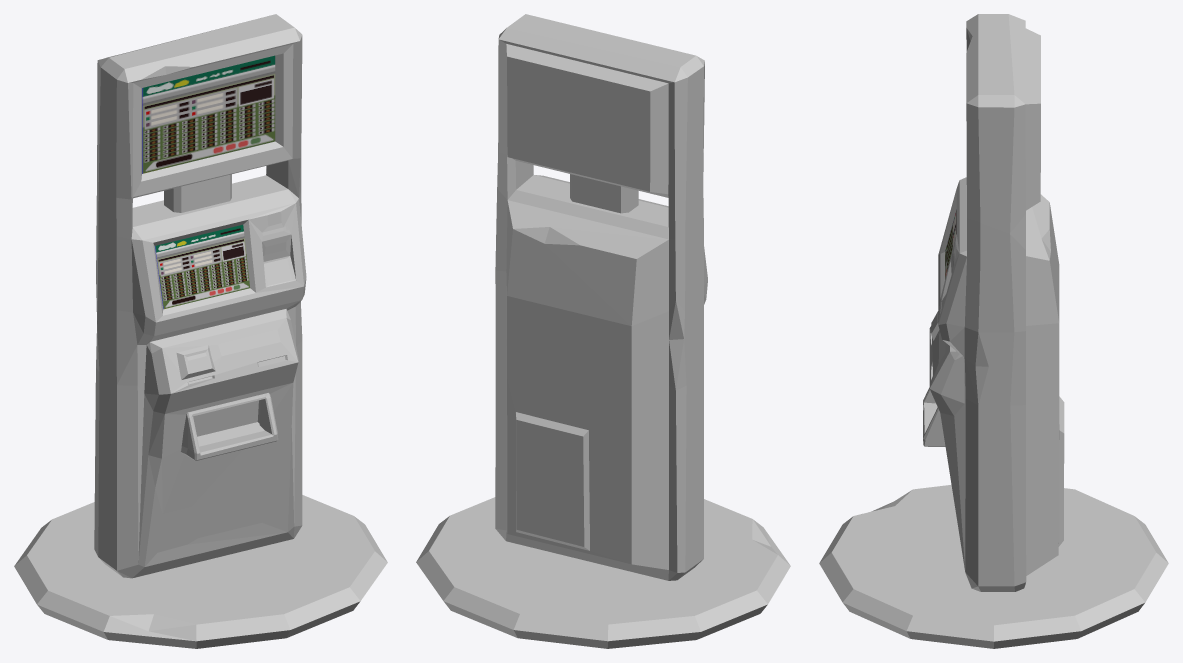
File: SM_Prop_Chip_Dispenser_01.fbx
3 views of the same model, side by side, from view 1: azimuth 30°, elevation 25°; view 2: azimuth 150°, elevation 25°; view 3: azimuth 270°, elevation 25° (orthographic). The views are drawn at different scales.
Parts seen in each view (by area): view 1: SM_Prop_Chip_Dispenser_01; view 2: SM_Prop_Chip_Dispenser_01; view 3: SM_Prop_Chip_Dispenser_01.
Part boxes in pixels (bbox=[...]): SM_Prop_Chip_Dispenser_01: bbox=[14, 14, 387, 648]; SM_Prop_Chip_Dispenser_01: bbox=[416, 14, 790, 648]; SM_Prop_Chip_Dispenser_01: bbox=[819, 14, 1168, 648].
Size of the model in its own units: 130 by 202 by 123.
